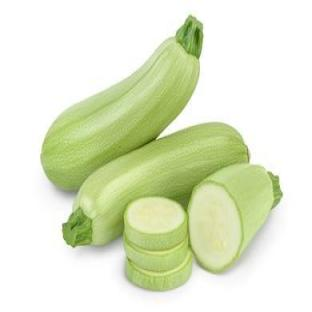Zucchini: (41, 16, 203, 189), (63, 123, 248, 247), (188, 165, 282, 272), (124, 197, 187, 250), (126, 250, 191, 290), (124, 234, 188, 272)
